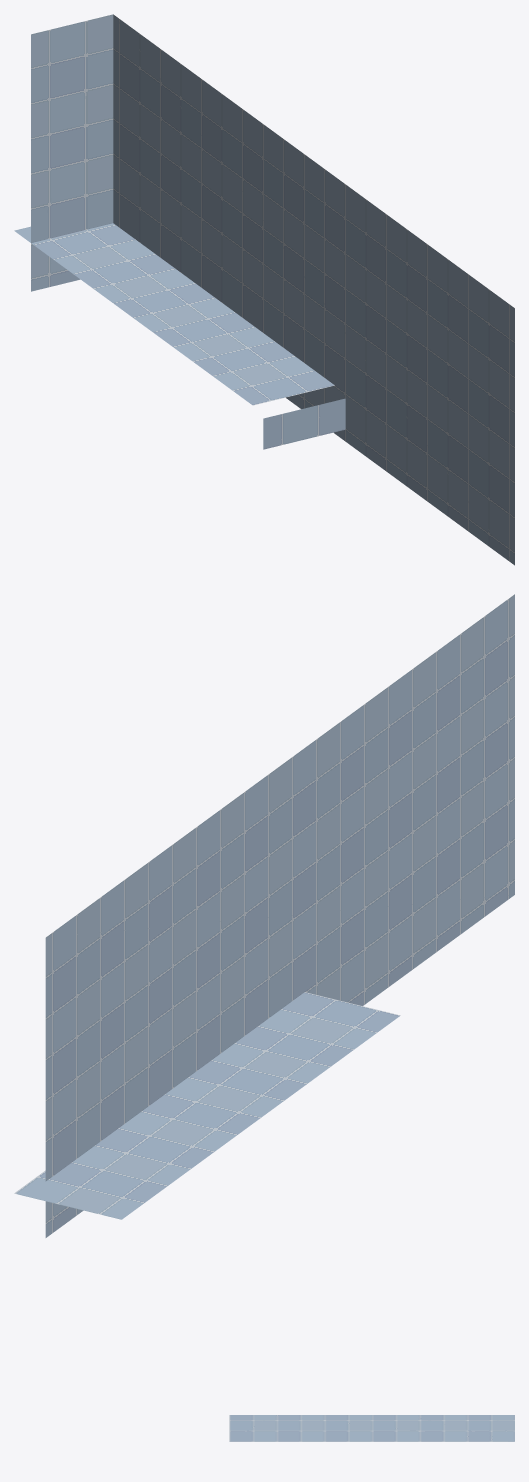
File: kd_stage_135c43_4_26_bounded.glb
3 renders of one model, top to bottom at view 1: azimuth 30°, elevation 25°; view 2: azimuth 150°, elevation 25°; view 3: azimuth 270°, elevation 25°, orthographic. The views are drawn at different scales.
Parts seen in each view (by area): view 1: kd_stage_135c43_4_26_bounded; view 2: kd_stage_135c43_4_26_bounded; view 3: kd_stage_135c43_4_26_bounded.
Part boxes in pixels (<box>): kd_stage_135c43_4_26_bounded: <box>14,14,514,565</box>; kd_stage_135c43_4_26_bounded: <box>14,594,514,1237</box>; kd_stage_135c43_4_26_bounded: <box>229,1415,514,1441</box>.
Size of the model in its own units: 0.2119 by 0.5651 by 1.67.
1 material, 1 textured.
